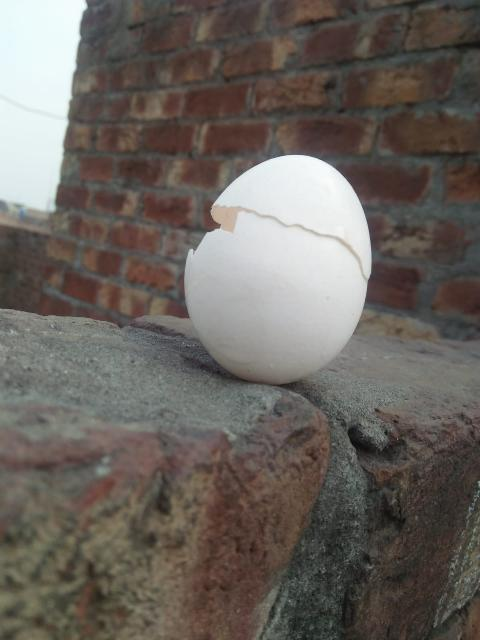Roto: (183, 153, 372, 385)
